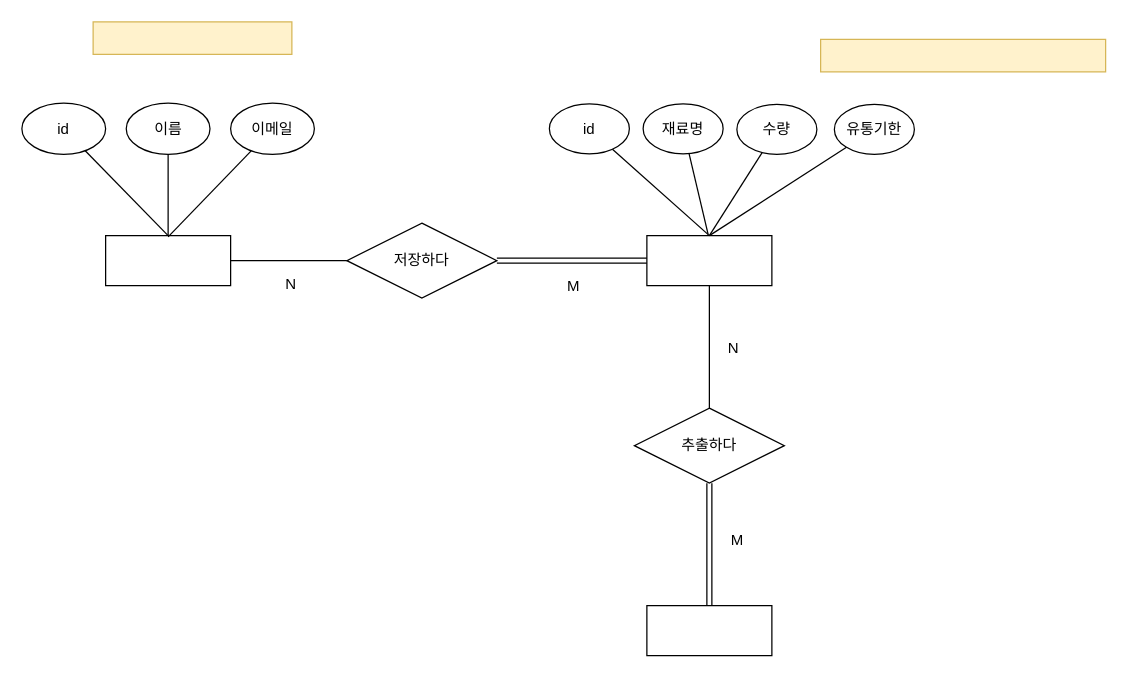
The diagram is 1128 pixels wide and 678 high, and some of its shapes have lost their labels. Here are the shapes that lost their labels. From the top down, the centre of each, then its label:
At [192,37]: "*회원 API 담당자와 논의 필요".
At [962,55]: "*유통기한 제공 API 업데이트 사항 확인 필요".
At [167,260]: "회원".
At [709,260]: "재료".
At [709,630]: "레시피".
